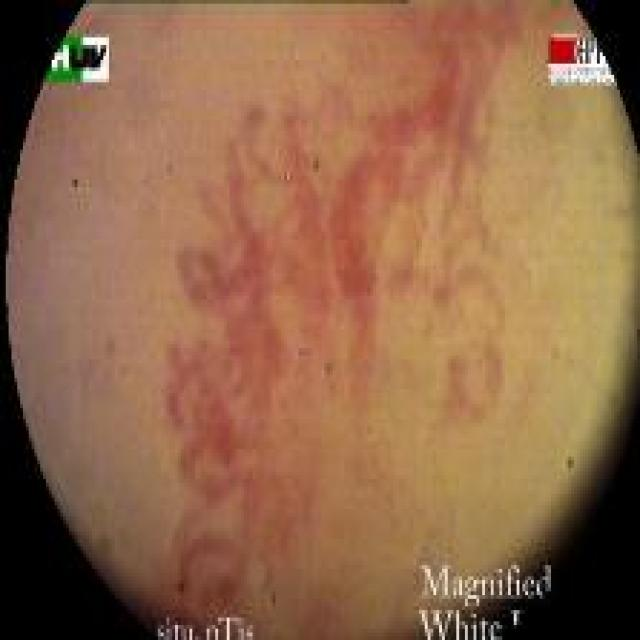color misalignment: (419, 565, 555, 639), (550, 34, 618, 87), (47, 36, 112, 83), (154, 614, 257, 639), (564, 449, 582, 472), (172, 578, 191, 596), (269, 590, 282, 607), (323, 359, 334, 377), (70, 175, 83, 189), (283, 171, 296, 185), (311, 156, 321, 171), (163, 165, 174, 175), (117, 367, 125, 377)
